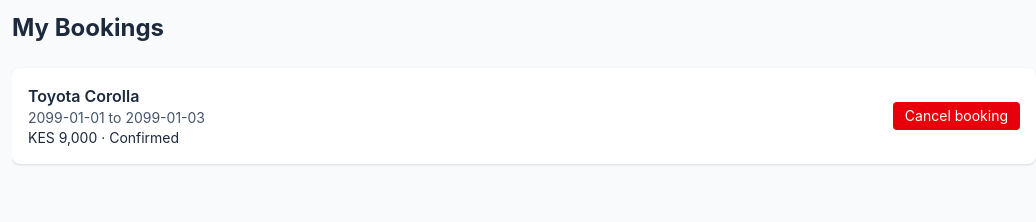
Test: MyBookings › shows an error when cancelling fails
This screenshot has width=1036, height=222.
Click the button "Cancel booking" at point(956, 116), box [893,102,1020,130]
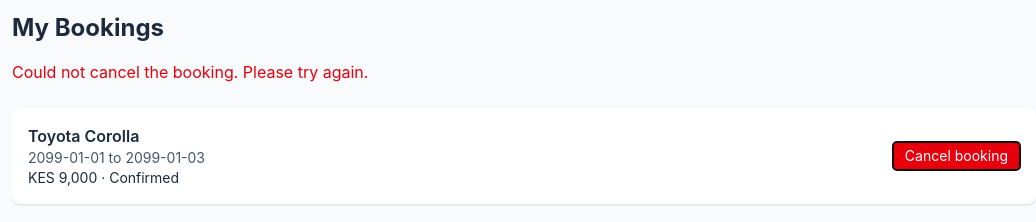
Expected: the message shows "Could not cancel", [12,62,368,82]
